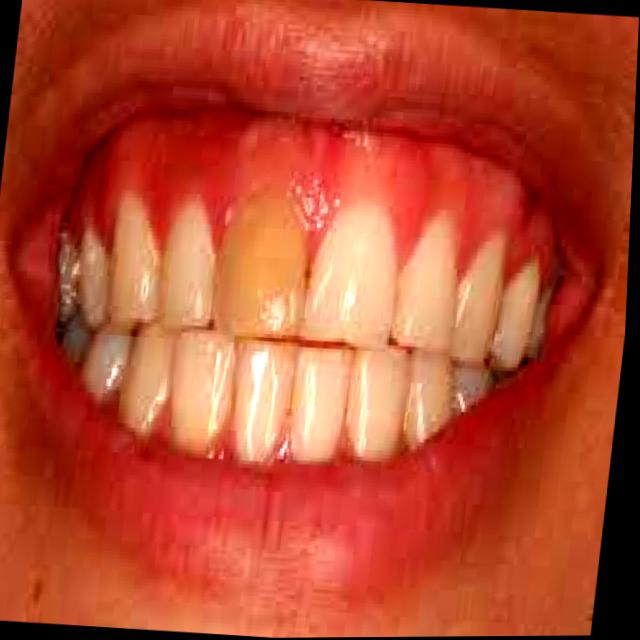tooth-discoloration: (214, 194, 306, 335)
